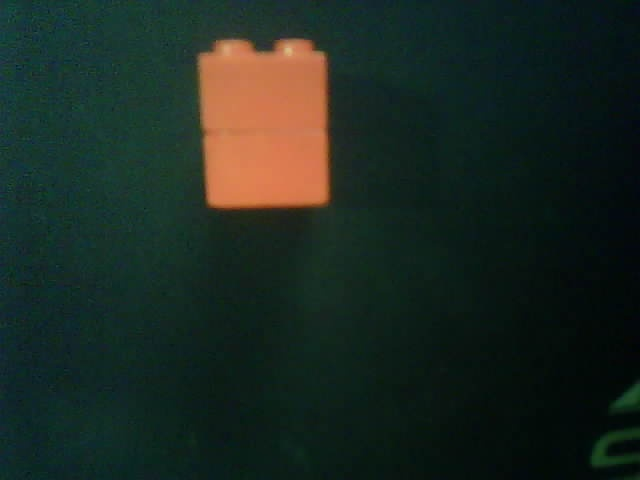lego: (194, 35, 332, 211)
